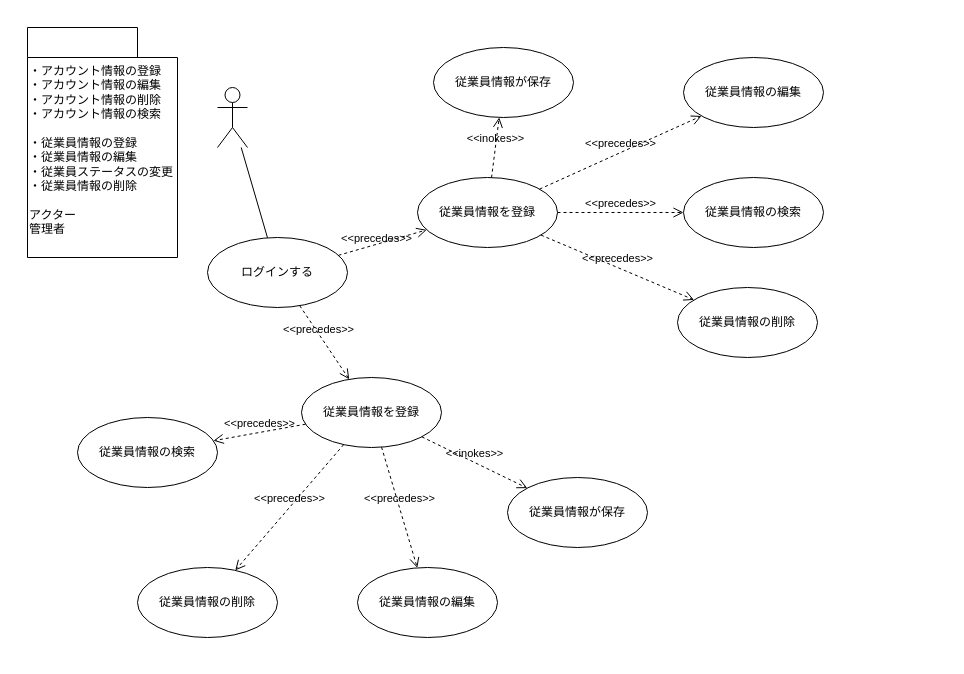
This 964x674 diagram has some shape labels left out. The centre of each missing label's shape, as x and y in pixels:
"管理" belongs at point (102, 142).
"管理者" belongs at point (232, 117).
